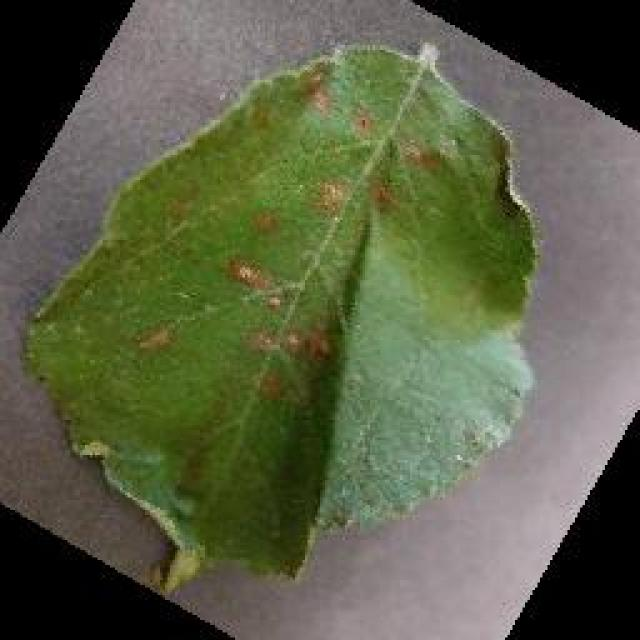apple scab disease: (20, 37, 540, 595)
